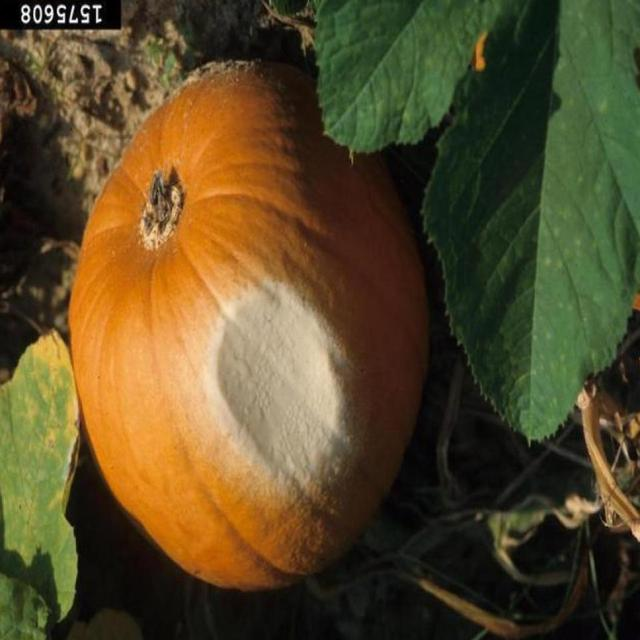Sunscald Fruit: (134, 184, 256, 336)
